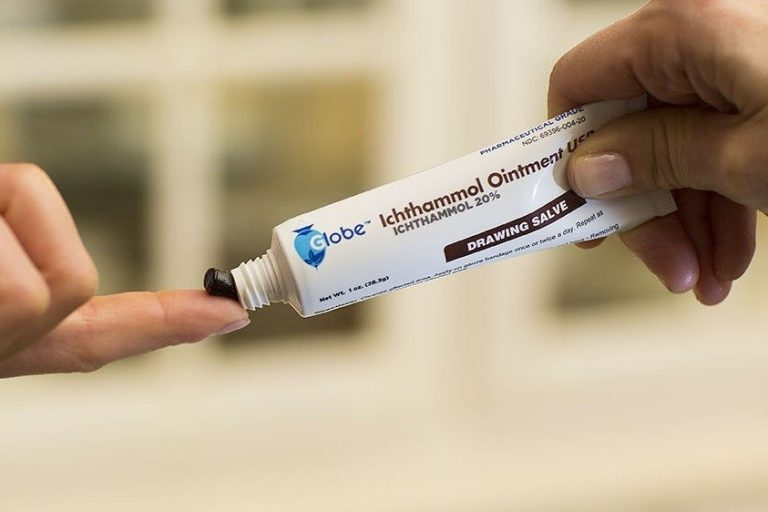Medicine: (186, 94, 704, 323)
